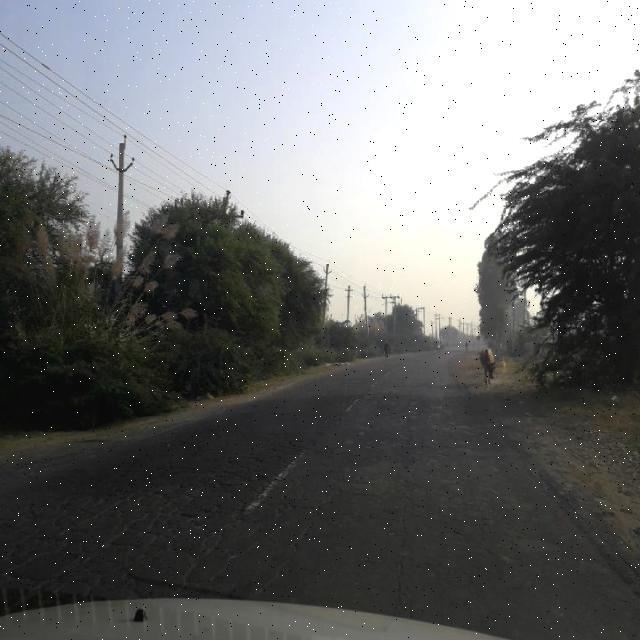D20: (1, 438, 507, 604)
D44: (237, 425, 311, 525)
